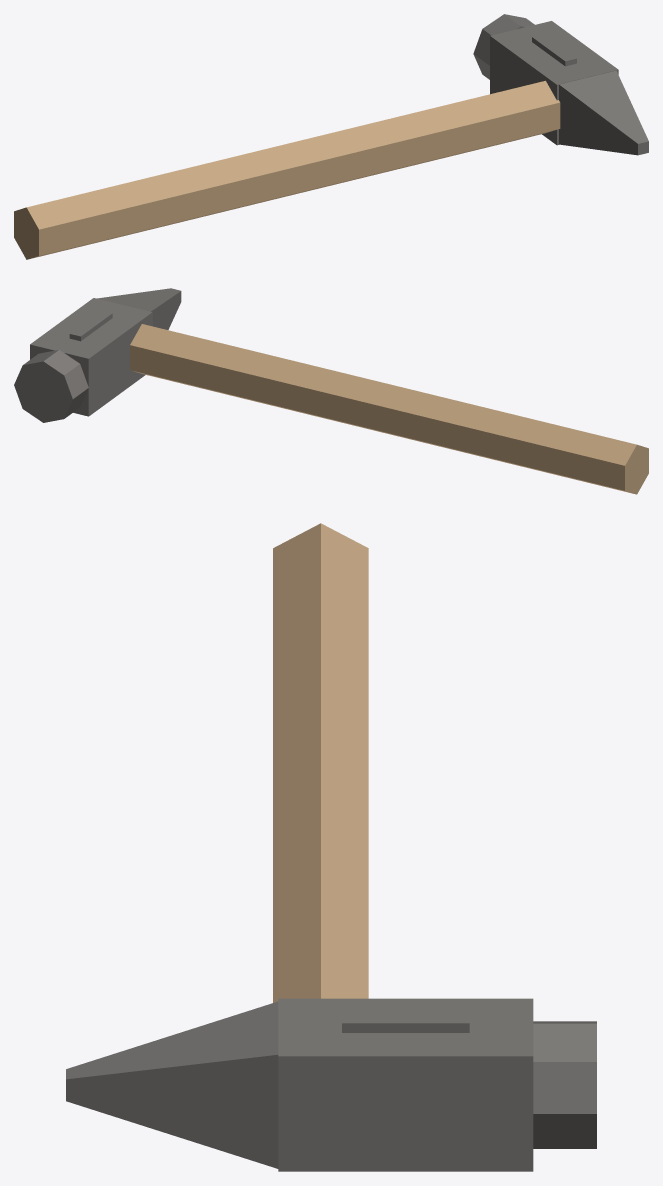
The model's file is prop-shoeing-hammer-fr1.fbx.
3 views of the same model, one above another, from view 1: azimuth 30°, elevation 25°; view 2: azimuth 150°, elevation 25°; view 3: azimuth 270°, elevation 25° (orthographic). The views are drawn at different scales.
Parts seen in each view (by area): view 1: prop-shoeing-hammer-fr1; view 2: prop-shoeing-hammer-fr1; view 3: prop-shoeing-hammer-fr1.
Part boxes in pixels (<box>): prop-shoeing-hammer-fr1: <box>14,14,648,259</box>; prop-shoeing-hammer-fr1: <box>14,288,648,494</box>; prop-shoeing-hammer-fr1: <box>66,523,596,1171</box>.
Size of the model in its own units: 0.301 by 0.0335 by 0.125.
